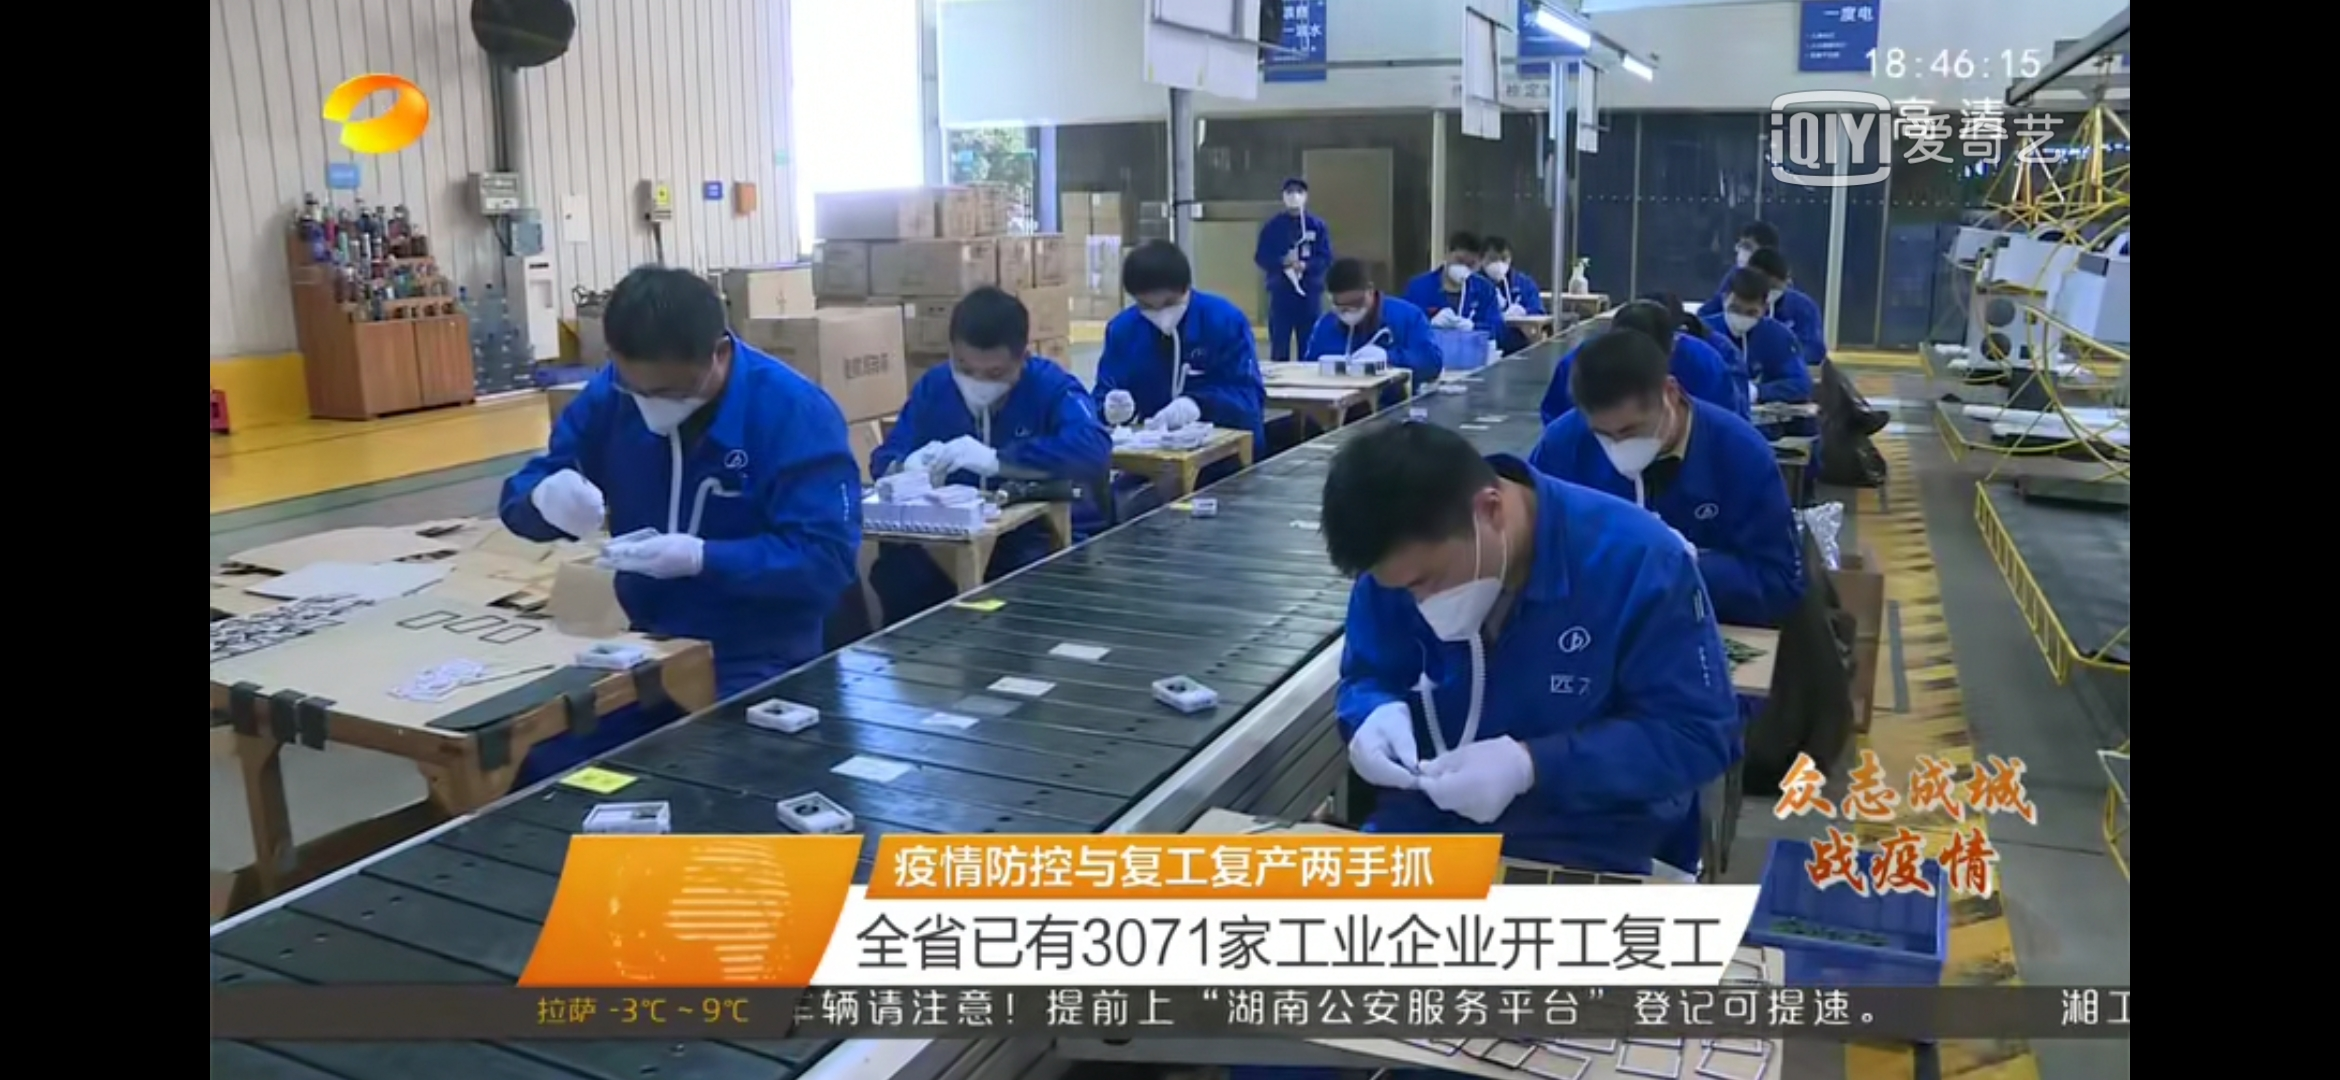correctlyWear: (1377, 485, 1516, 656), (610, 339, 728, 442), (1583, 385, 1692, 485), (946, 342, 1027, 415), (1133, 285, 1195, 343), (1724, 291, 1767, 339), (1439, 246, 1476, 289), (1330, 294, 1371, 330), (1480, 251, 1513, 286), (1736, 233, 1761, 269), (1282, 186, 1313, 213)
